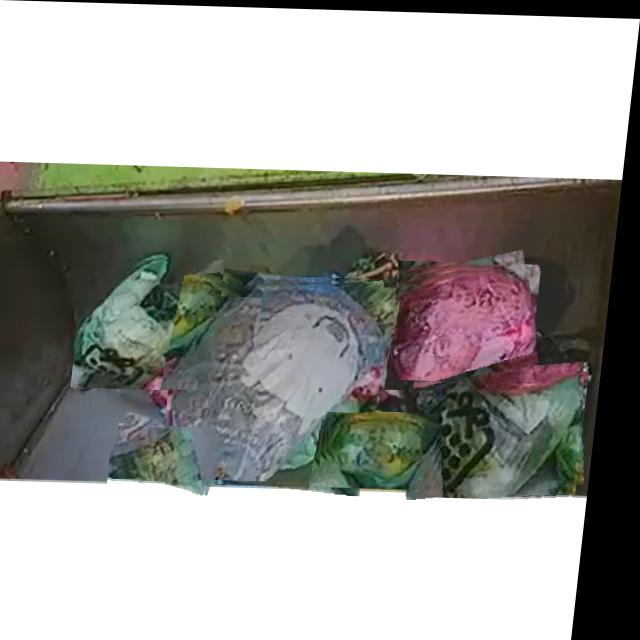general_trashbag: (418, 375, 591, 495), (79, 258, 224, 387), (336, 411, 448, 486), (121, 426, 216, 494), (203, 298, 268, 372)
other_trashbag: (173, 281, 395, 478), (396, 267, 543, 379)
